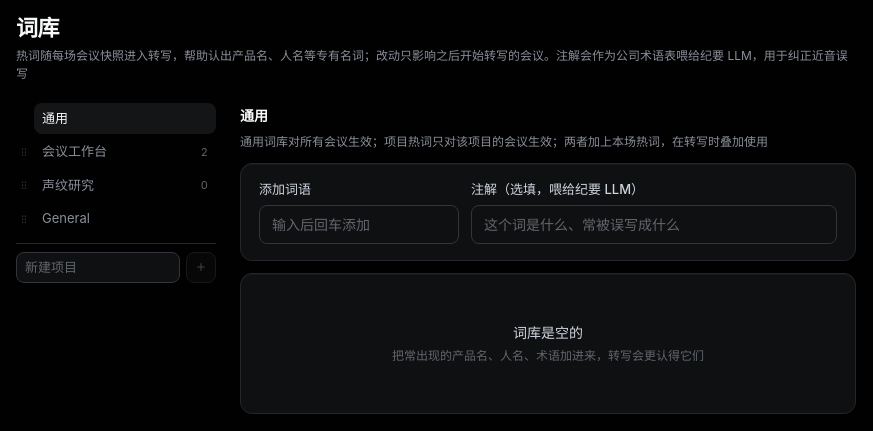
it: 词库页 › 项目范围下加词打到项目路由，左栏计数跟着涨
Click the button "声纹研究 0".
click(125, 185)  # box x1=34 y1=170 x2=216 y2=201
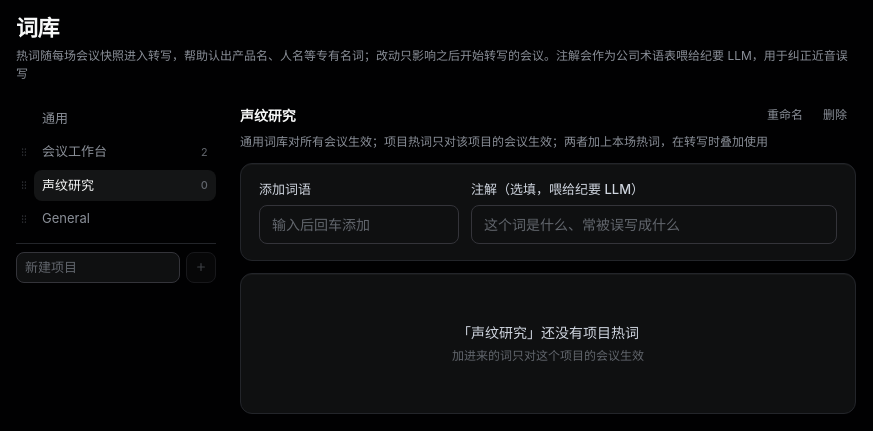
Expected: the text "「声纹研究」还没有项目热词" is shown, x1=457 y1=324 x2=639 y2=341
Type "说话人簇" into the field labelled "添加词语".
click(359, 224); type("说话人簇")  # box x1=259 y1=205 x2=459 y2=244
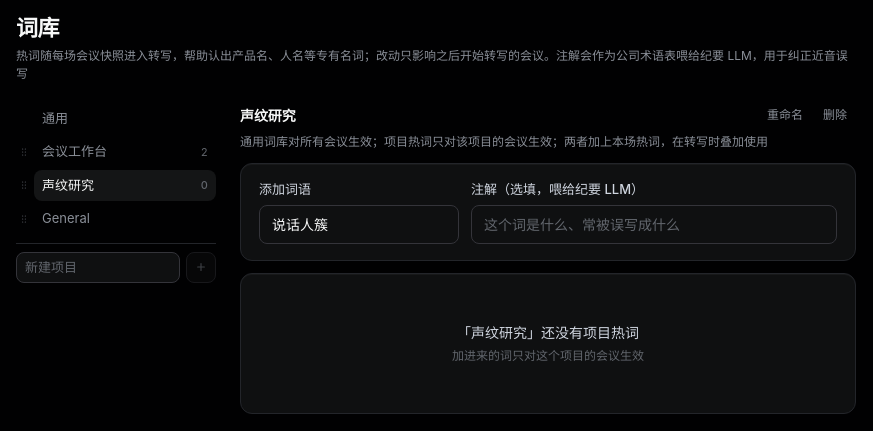
Press Enter in the field labelled "添加词语", box x1=259 y1=205 x2=459 y2=244
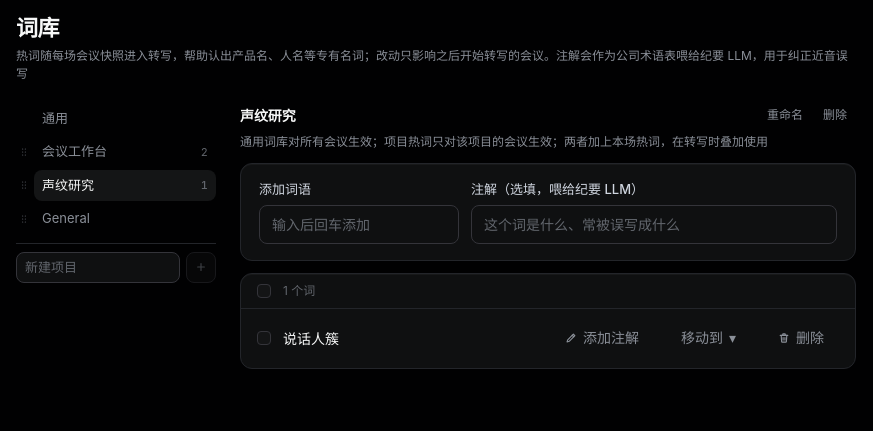
Expected: the text "说话人簇" is shown, x1=283 y1=330 x2=339 y2=347
Expected: the button "声纹研究 1" is shown, x1=34 y1=170 x2=216 y2=201
